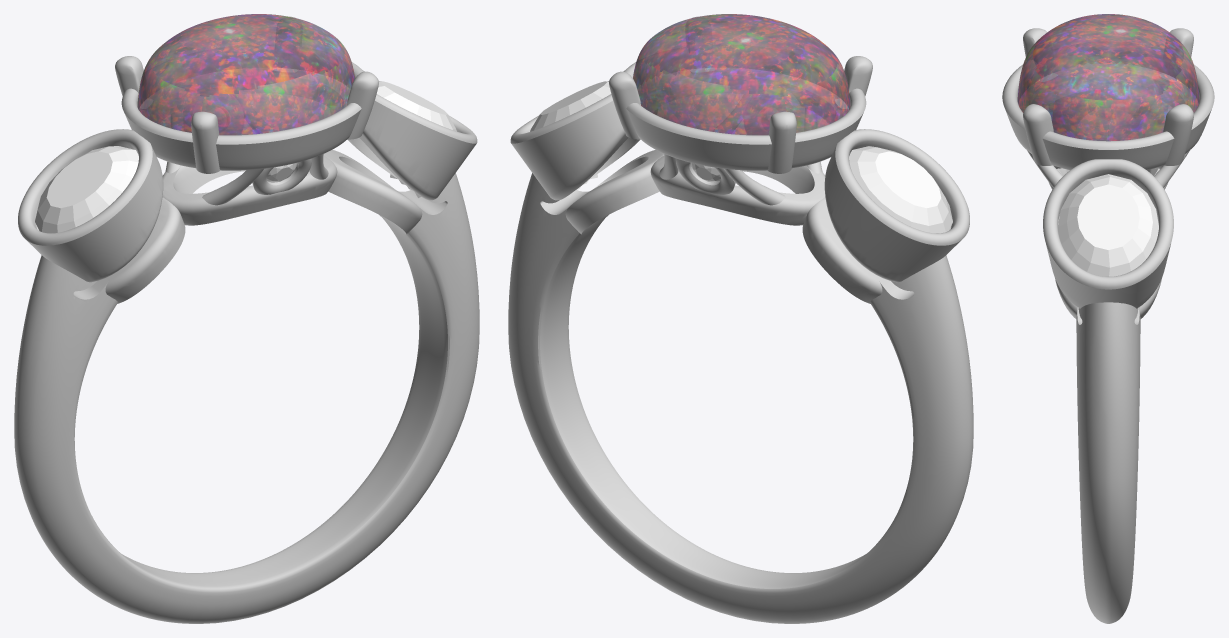
The model's file is LuciaPTnew.glb.
3 renders of one model, left to right at view 1: azimuth 30°, elevation 25°; view 2: azimuth 150°, elevation 25°; view 3: azimuth 270°, elevation 25°, orthographic. The views are drawn at different scales.
Visible parts, largest first — view 1: new_PT_for_3d_model, lucia_opal_for_3d_model, lucia_sapph_for_3d_model, lucia_sapph_for_3d_model001; view 2: new_PT_for_3d_model, lucia_opal_for_3d_model, lucia_sapph_for_3d_model, lucia_sapph_for_3d_model001; view 3: new_PT_for_3d_model, lucia_opal_for_3d_model, lucia_sapph_for_3d_model001.
Boxes of the visible parts, x1=… form: new_PT_for_3d_model: x1=14, y1=16, x2=479, y2=623; lucia_opal_for_3d_model: x1=137, y1=14, x2=354, y2=135; lucia_sapph_for_3d_model: x1=35, y1=146, x2=138, y2=233; lucia_sapph_for_3d_model001: x1=376, y1=81, x2=456, y2=131; new_PT_for_3d_model: x1=508, y1=16, x2=973, y2=623; lucia_opal_for_3d_model: x1=633, y1=14, x2=850, y2=135; lucia_sapph_for_3d_model: x1=849, y1=146, x2=952, y2=233; lucia_sapph_for_3d_model001: x1=530, y1=81, x2=611, y2=131; new_PT_for_3d_model: x1=1002, y1=28, x2=1214, y2=623; lucia_opal_for_3d_model: x1=1017, y1=14, x2=1199, y2=141; lucia_sapph_for_3d_model001: x1=1058, y1=174, x2=1158, y2=276.
Bounding box in the file's own units: 2.46 × 2.98 × 1.02.
4 materials, 1 textured.
